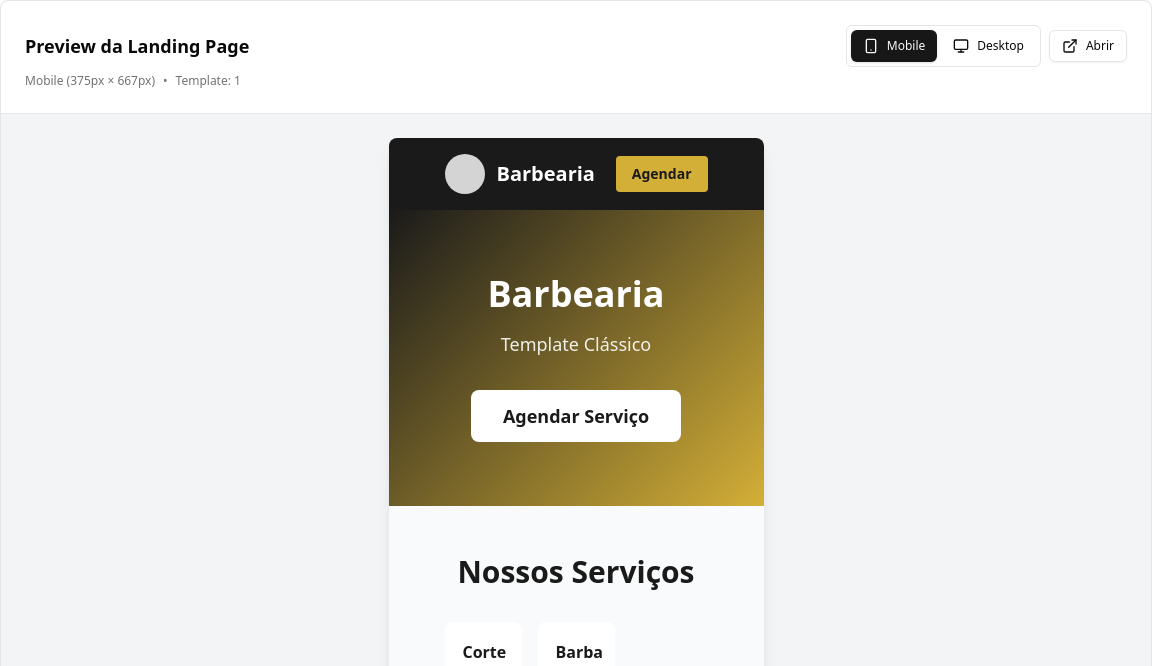
Test case: PreviewPanel › Device Controls › should toggle back to desktop view
Click the button titled "Visualização Desktop": (989, 46) [941,30,1036,62]
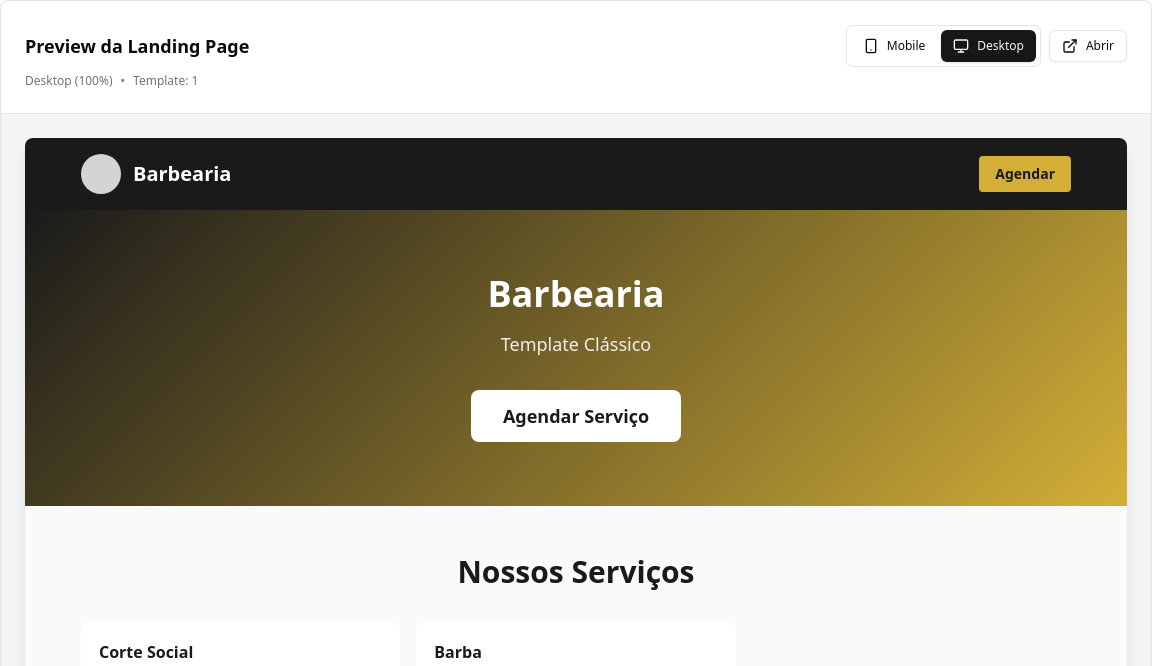
Now the text "Desktop (100%)" is shown, box [25,73,112,89]
